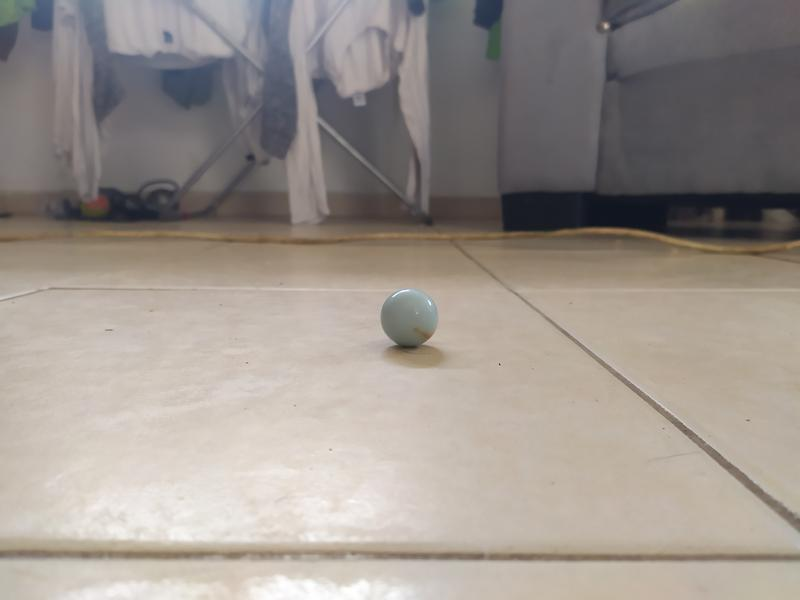Warning: (376, 285, 442, 350)
